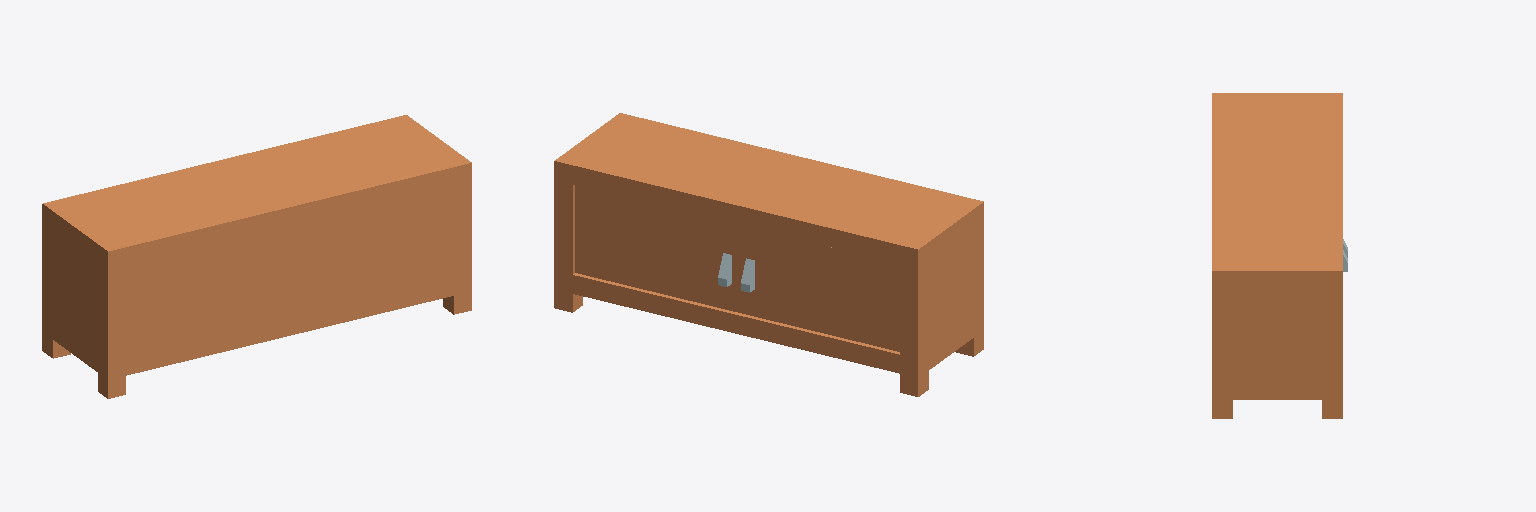
Rendered from cabinetTelevisionDoors.obj.
The picture shows the model from 3 angles: view 1: azimuth 30°, elevation 25°; view 2: azimuth 150°, elevation 25°; view 3: azimuth 270°, elevation 25°; orthographic projection.
Visible parts, largest first — view 1: cabinetTelevisionDoors; view 2: cabinetTelevisionDoors, doorLeft, doorRight; view 3: cabinetTelevisionDoors.
Boxes of the visible parts, x1=… form: cabinetTelevisionDoors: x1=42, y1=115, x2=471, y2=398; cabinetTelevisionDoors: x1=554, y1=113, x2=983, y2=396; doorLeft: x1=575, y1=185, x2=738, y2=312; doorRight: x1=739, y1=225, x2=899, y2=351; cabinetTelevisionDoors: x1=1212, y1=93, x2=1342, y2=418.
Size of the model in its own units: 0.8 by 0.31 by 0.26.